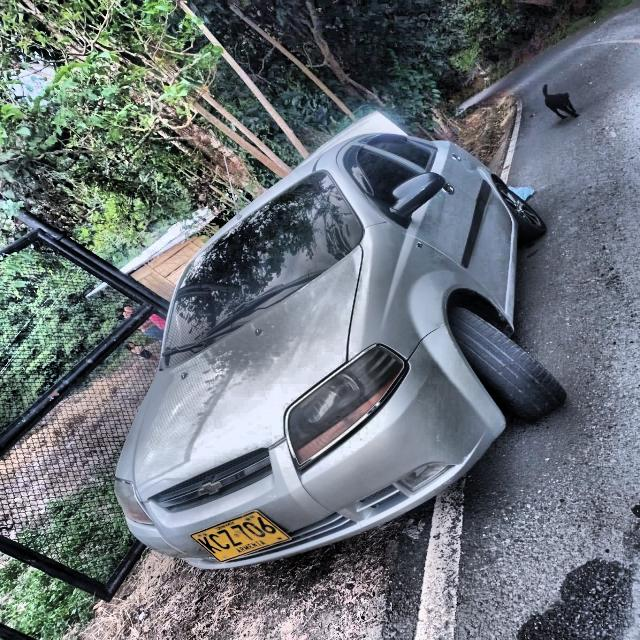plate: (190, 510, 291, 562)
